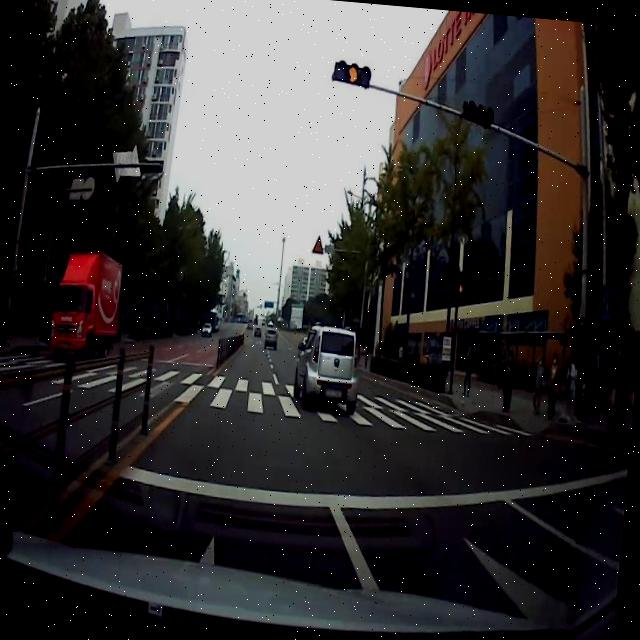crosswalk: (0, 353, 532, 436)
